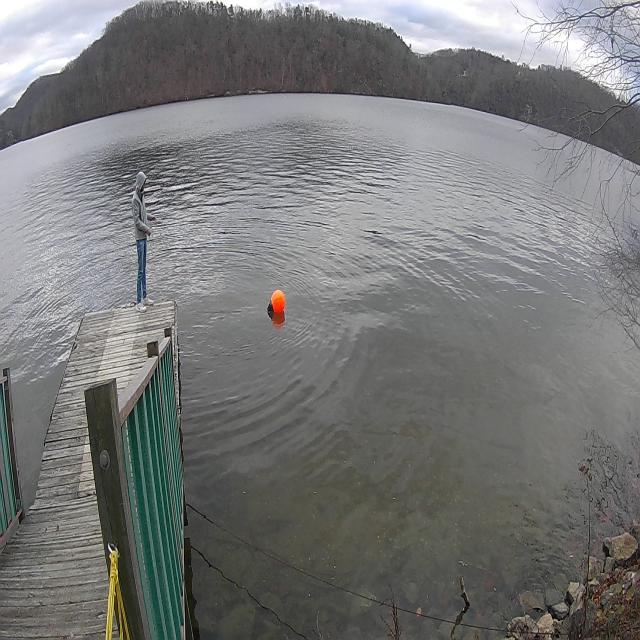Buoy: (267, 284, 288, 324)
